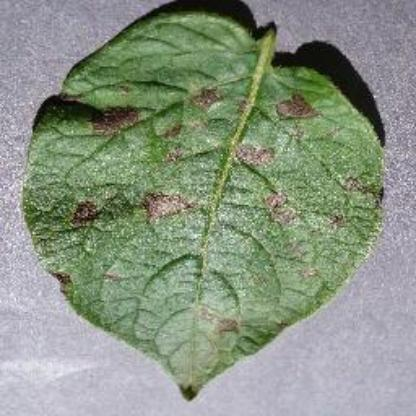Early-Blight: (21, 5, 390, 398)
